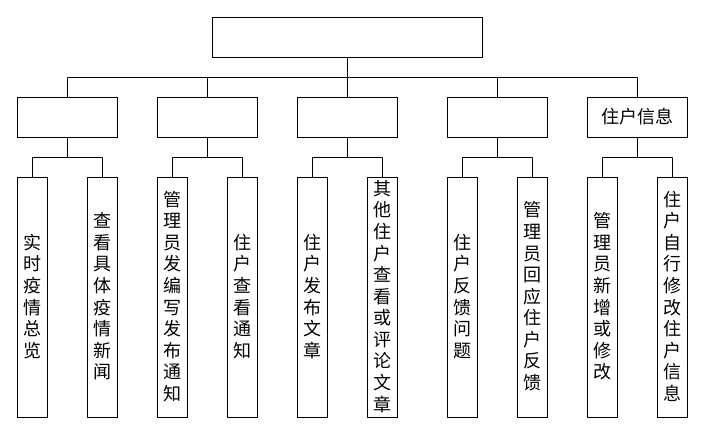
Image size: 705x435. Some labels were removed from this diagram. Here are the shapes that lost their labels. From the top down, the box of each, then its label:
(212, 16, 482, 58): 小区疫情防控辅助系统
(16, 96, 118, 138): 实时疫情
(156, 96, 258, 138): 社区通知
(296, 96, 398, 138): 社区文章
(446, 96, 548, 138): 在线反馈
